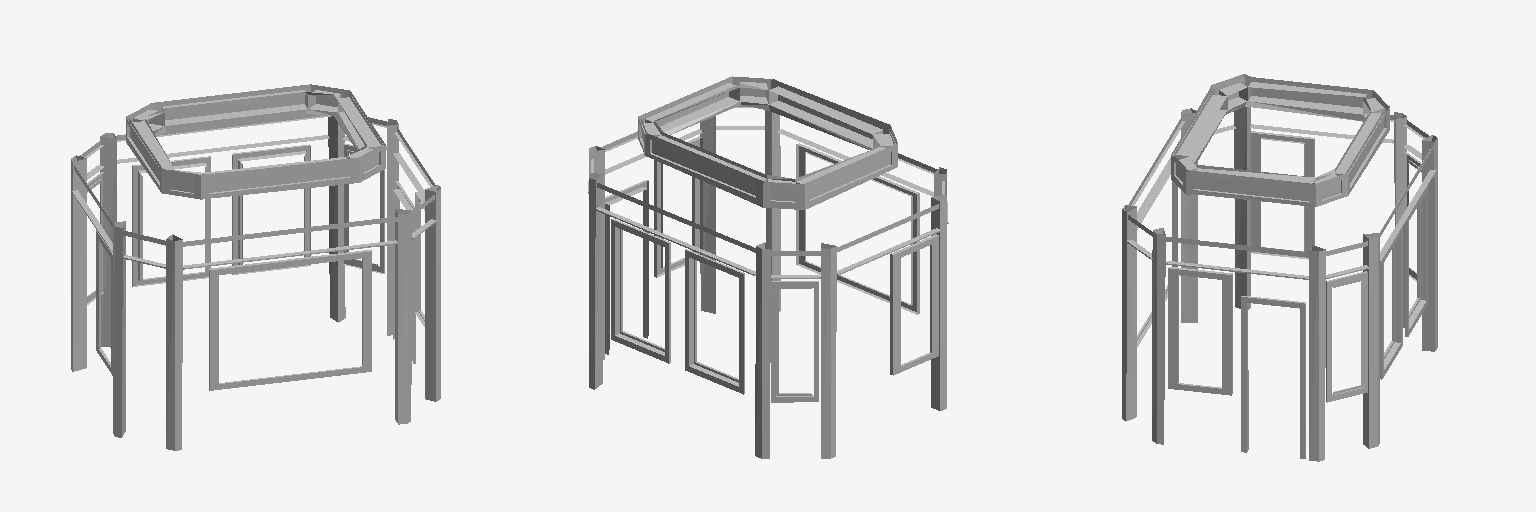
The model's file is venice_20.obj.
3 renders of one model, left to right at view 1: azimuth 30°, elevation 25°; view 2: azimuth 150°, elevation 25°; view 3: azimuth 270°, elevation 25°, orthographic.
Bounding box in the file's own units: 5.46 × 4.16 × 4.66.